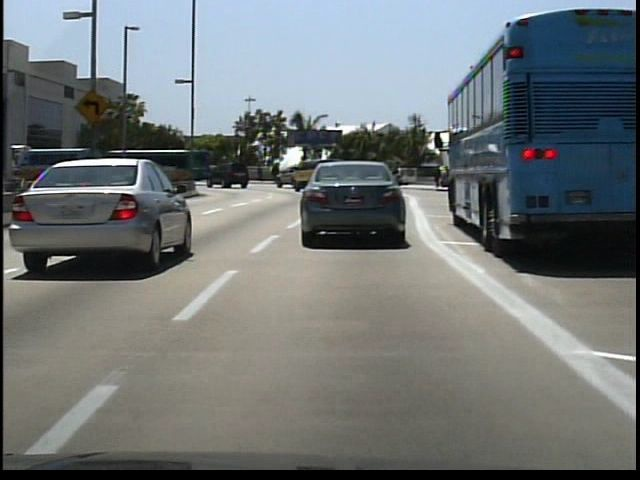person: (430, 164, 444, 191), (256, 160, 266, 181)
